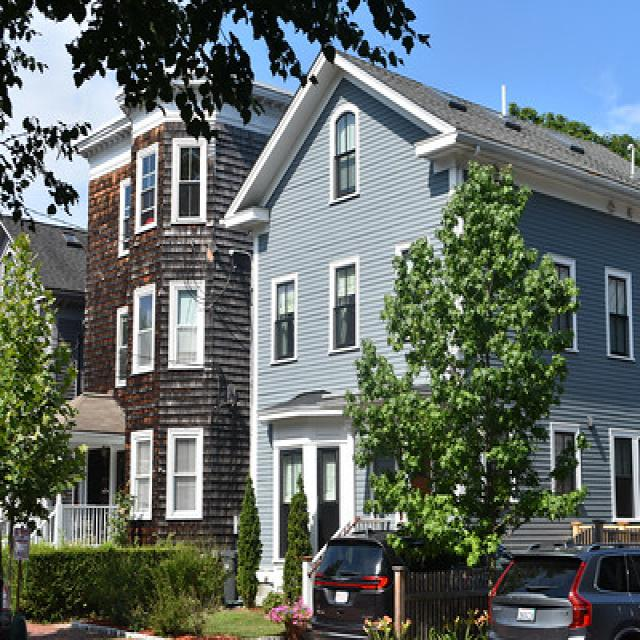Normal_building: (219, 38, 640, 616)
